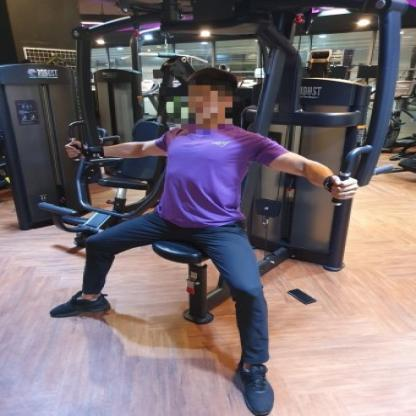chest fly machine: (6, 0, 416, 416)
